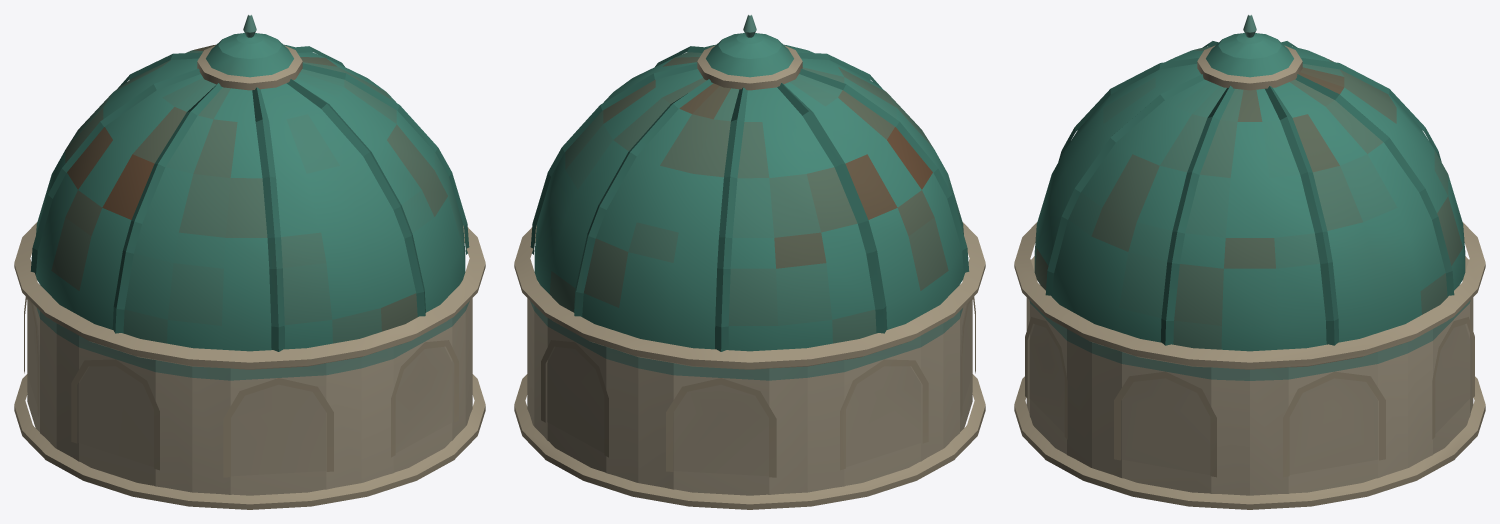
The model's file is dome.closed_8.copper.glb.
3 views of the same model, side by side, from view 1: azimuth 30°, elevation 25°; view 2: azimuth 150°, elevation 25°; view 3: azimuth 270°, elevation 25° (orthographic).
Visible parts, largest first — view 1: dome_closed_8_copper; view 2: dome_closed_8_copper; view 3: dome_closed_8_copper.
Part boxes in pixels (left/top/right/bottom): dome_closed_8_copper: left=14, top=15, right=485, bottom=509; dome_closed_8_copper: left=514, top=15, right=985, bottom=509; dome_closed_8_copper: left=1014, top=15, right=1485, bottom=509.
Size of what is drawn, in the model's own units: 7.6 by 7.03 by 7.6.
